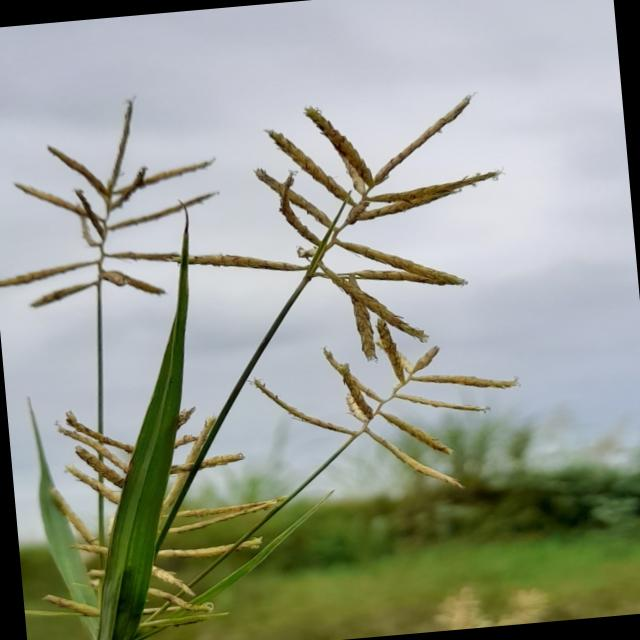cyperus: (0, 61, 559, 640), (228, 70, 540, 518), (7, 350, 290, 640), (0, 83, 242, 334)
